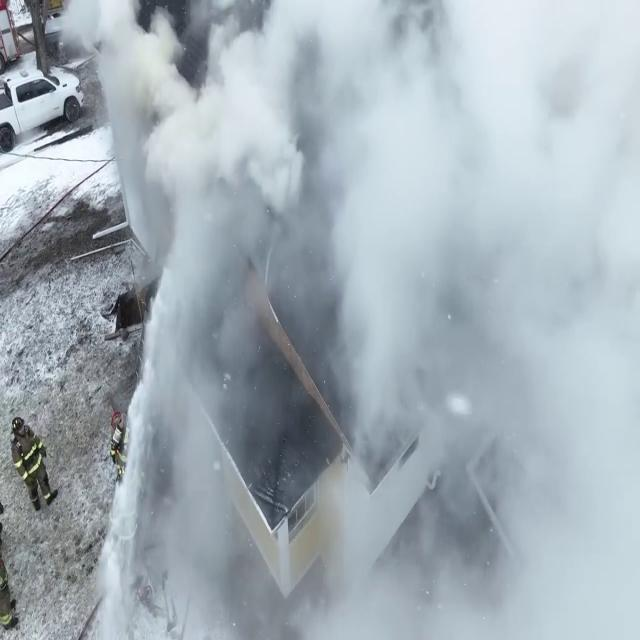Smoke: (66, 0, 636, 621)
